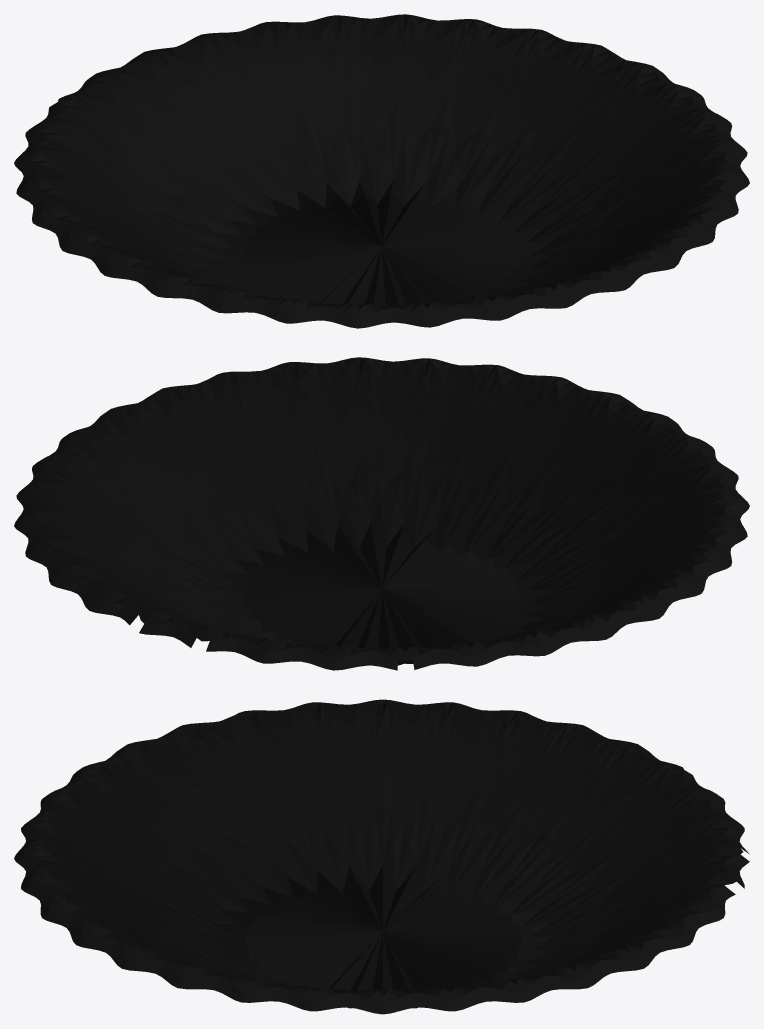
File: blackhole2.obj
3 renders of one model, top to bottom at view 1: azimuth 30°, elevation 25°; view 2: azimuth 150°, elevation 25°; view 3: azimuth 270°, elevation 25°, orthographic.
Parts seen in each view (by area): view 1: Cone; view 2: Cone; view 3: Cone.
Part boxes in pixels (<box>): Cone: <box>14,14,749,328</box>; Cone: <box>14,357,749,670</box>; Cone: <box>14,699,749,1014</box>.
Size of the model in its own units: 2.55 by 0.3909 by 2.55.
1 material, 1 textured.
